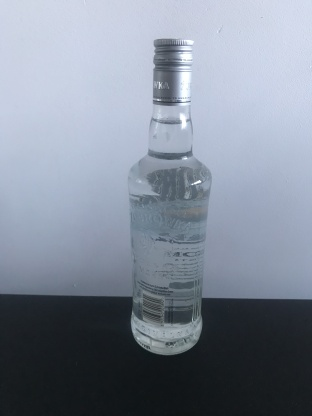nakretka: (151, 34, 193, 108)
